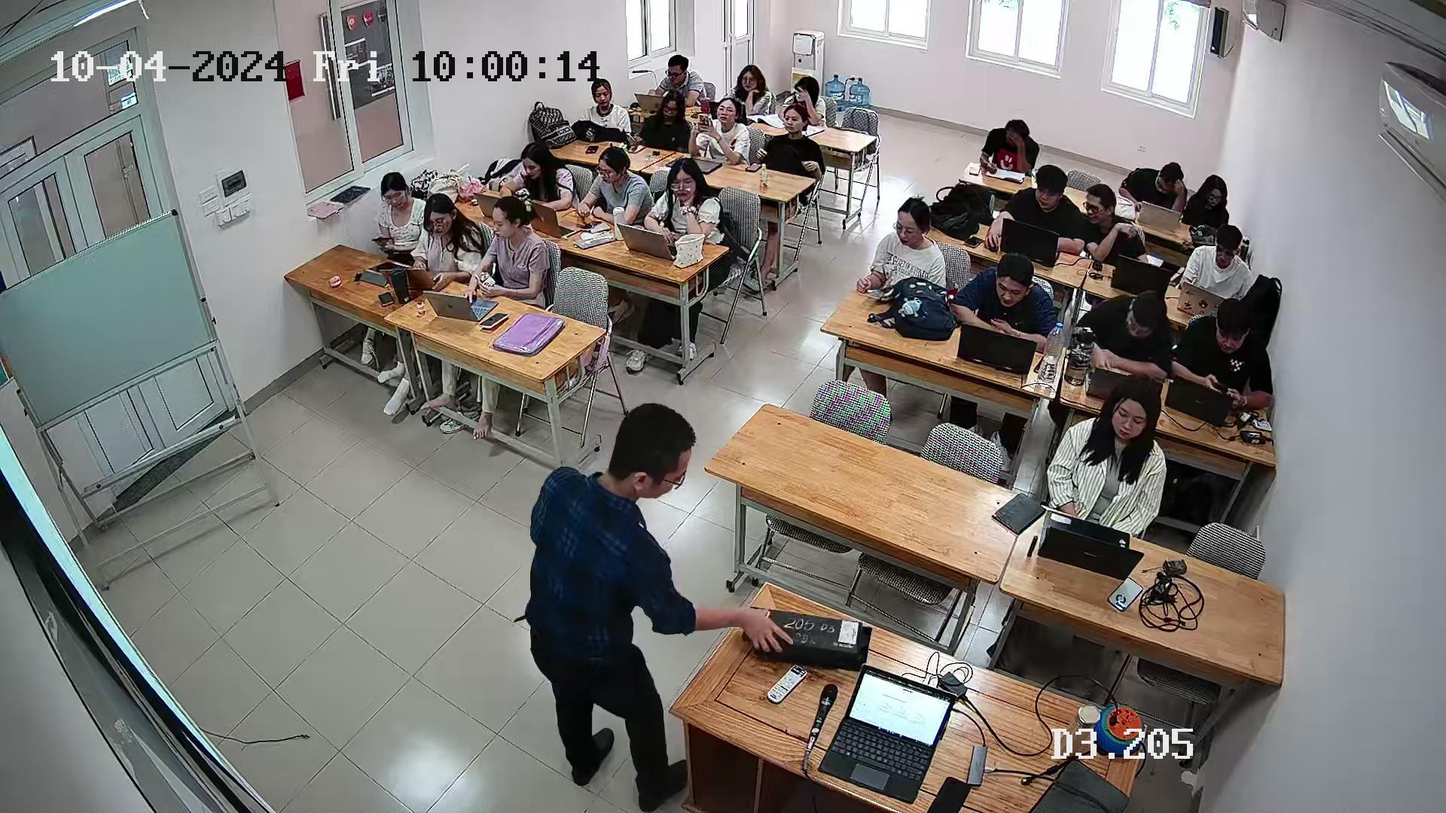Look Around: (1078, 179, 1119, 231)
Wave: (530, 367, 685, 813)
phone: (369, 227, 392, 253), (1207, 375, 1234, 394), (866, 282, 886, 306), (695, 111, 713, 137)
